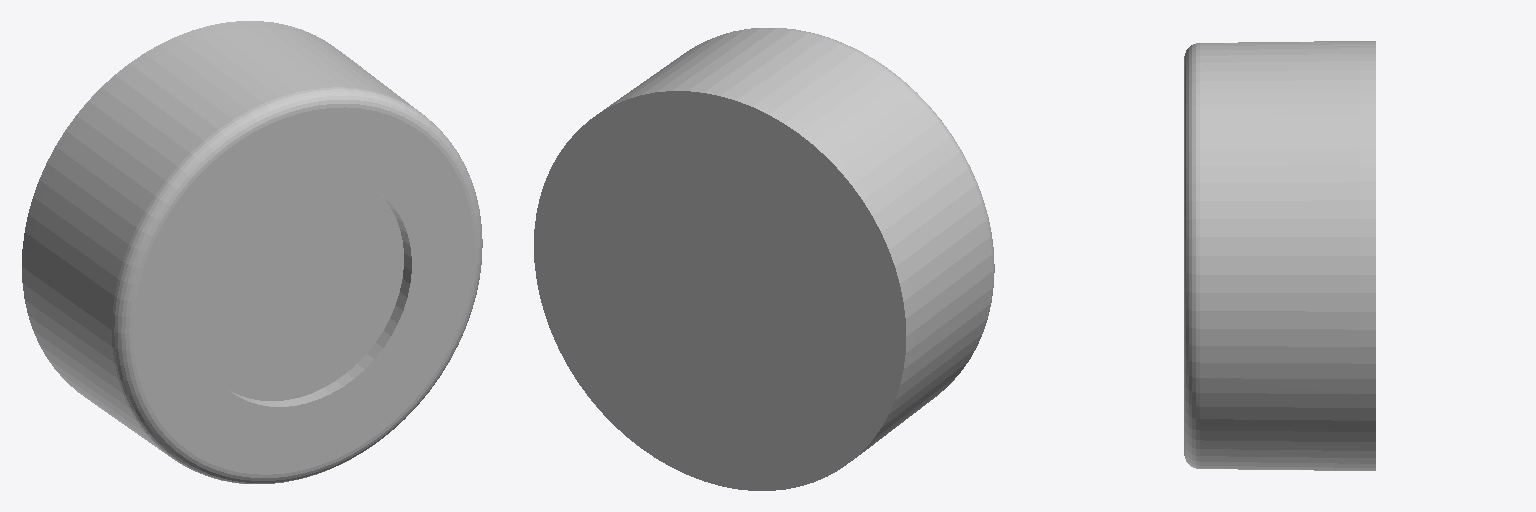
The model's file is cap.obj.
The picture shows the model from 3 angles: view 1: azimuth 30°, elevation 25°; view 2: azimuth 150°, elevation 25°; view 3: azimuth 270°, elevation 25°; orthographic projection.
Bounding box in the file's own units: 0.0276 × 0.0276 × 0.0123.